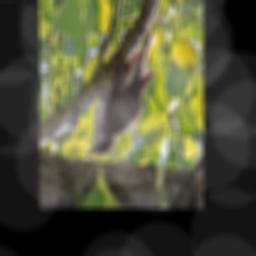Cuckoo: (84, 11, 158, 159)
